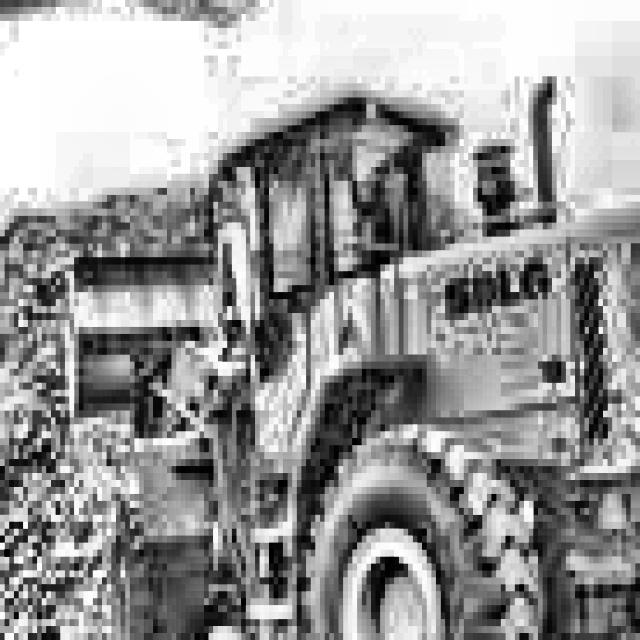buldozerpayloadergrader: (60, 69, 639, 640)
